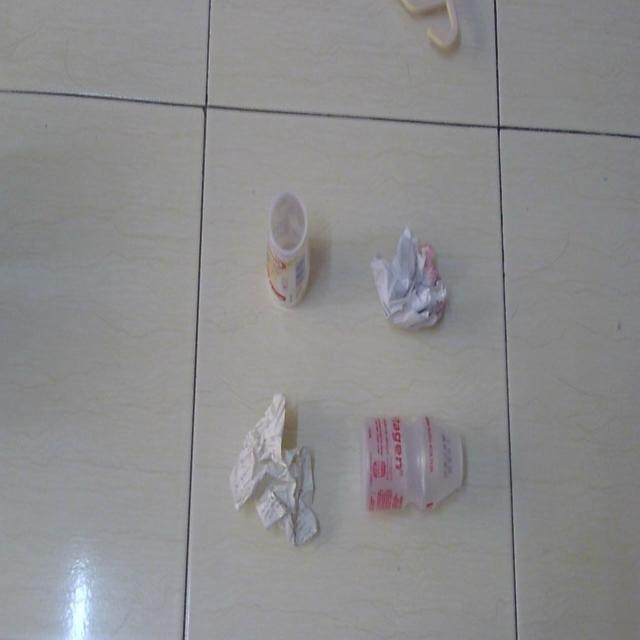paperrotation: (226, 393, 326, 551), (361, 222, 455, 350)
plastic_laydown_0rotation: (356, 400, 472, 530)
plastic_standrotation: (260, 187, 316, 312)
